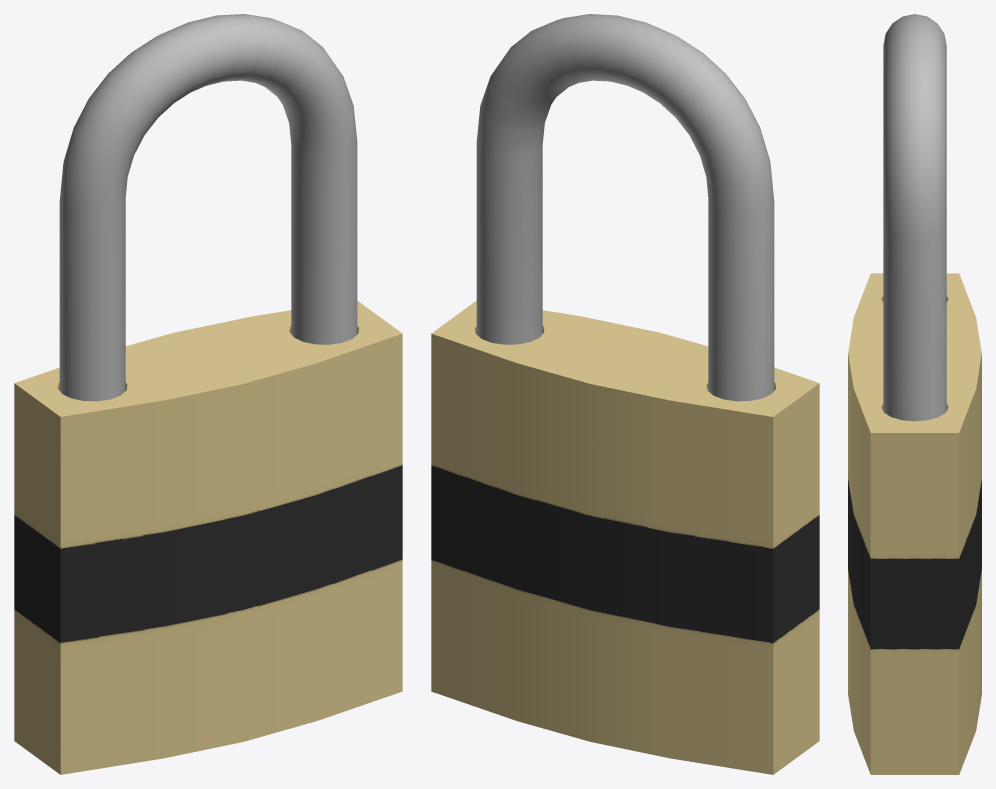
The model's file is padlock_low.glb.
3 renders of one model, left to right at view 1: azimuth 30°, elevation 25°; view 2: azimuth 150°, elevation 25°; view 3: azimuth 270°, elevation 25°, orthographic. The views are drawn at different scales.
Parts seen in each view (by area): view 1: padlock_low, padlockup_low; view 2: padlock_low, padlockup_low; view 3: padlock_low, padlockup_low.
Part boxes in pixels (x1=…): padlock_low: x1=14, y1=300, x2=402, y2=774; padlockup_low: x1=59, y1=14, x2=357, y2=401; padlock_low: x1=431, y1=300, x2=819, y2=774; padlockup_low: x1=476, y1=14, x2=774, y2=401; padlock_low: x1=848, y1=273, x2=981, y2=774; padlockup_low: x1=883, y1=14, x2=946, y2=421.
Size of the model in its own units: 0.2677 by 0.5198 by 0.0948.
Materials: 1 (1 with a texture image).
